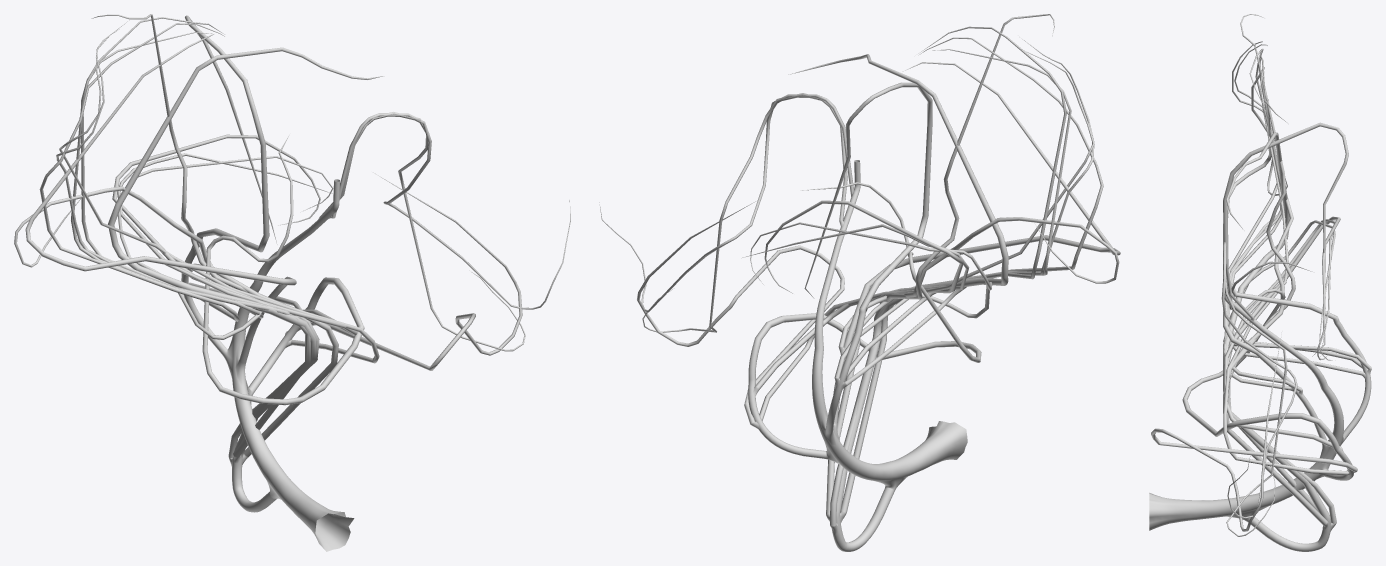
3 renders of one model, left to right at view 1: azimuth 30°, elevation 25°; view 2: azimuth 150°, elevation 25°; view 3: azimuth 270°, elevation 25°, orthographic. The views are drawn at different scales.
Parts seen in each view (by area): view 1: Root_Test_01A; view 2: Root_Test_01A; view 3: Root_Test_01A.
Boxes of the visible parts, <box> form: Root_Test_01A: <box>14,14,570,551</box>; Root_Test_01A: <box>599,14,1120,551</box>; Root_Test_01A: <box>1149,14,1371,551</box>.
Size of the model in its own units: 38.72 by 38.13 by 16.4.
